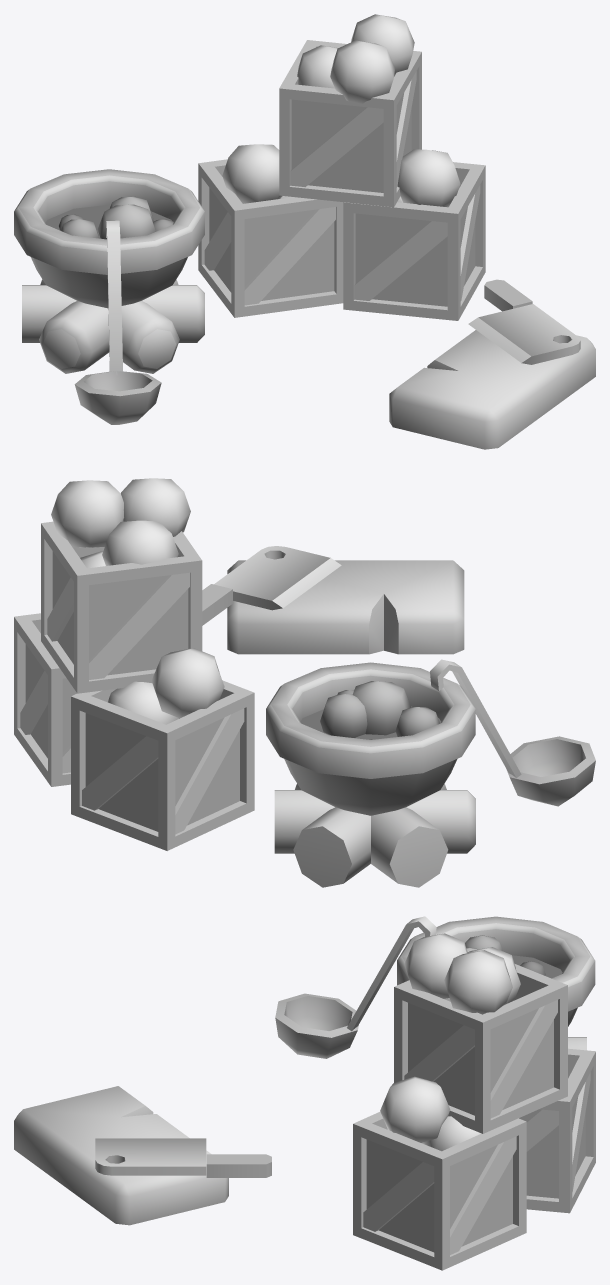
Rendered from Food_Base.fbx.
3 renders of one model, top to bottom at view 1: azimuth 30°, elevation 25°; view 2: azimuth 150°, elevation 25°; view 3: azimuth 270°, elevation 25°, orthographic. The views are drawn at different scales.
Parts seen in each view (by area): view 1: Wood, Metal, Cube.006; view 2: Wood, Metal, Cube.006; view 3: Wood, Metal, Cube.006.
Part boxes in pixels (<box>): Wood: <box>22,40,595,449</box>; Metal: <box>14,169,580,424</box>; Cube.006: <box>222,14,460,206</box>; Wood: <box>14,521,475,887</box>; Metal: <box>214,546,595,815</box>; Cube.006: <box>51,478,224,724</box>; Wood: <box>14,964,595,1270</box>; Metal: <box>95,916,595,1175</box>; Cube.006: <box>380,933,520,1151</box>.
Size of the model in its own units: 0.9695 by 0.5359 by 1.02.
